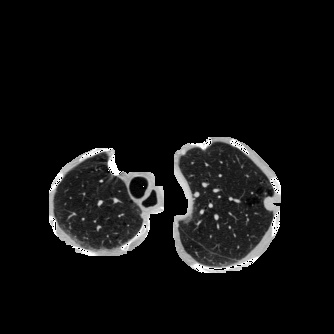PN: (263, 197, 275, 209)
